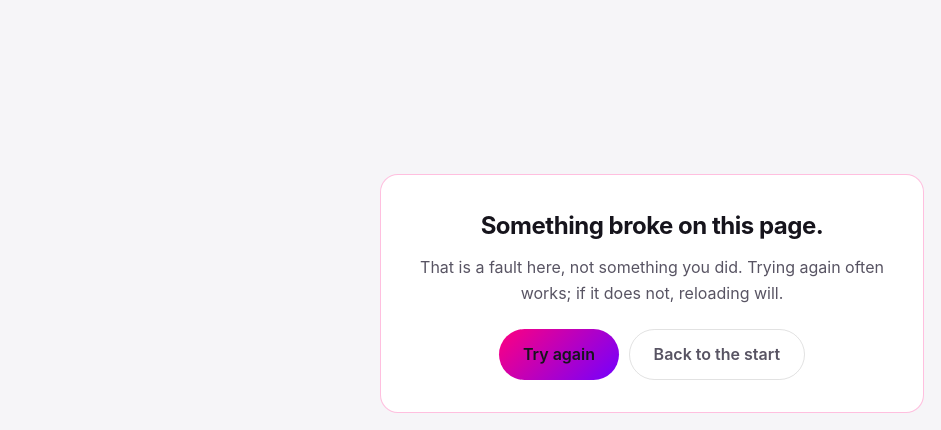
Test: ErrorBoundary › recovers when the cause has gone
The width and height of the screenshot is (941, 430).
Expected: the message is shown, x1=380 y1=174 x2=924 y2=413
Click the button "Try again".
click(559, 354)  # box x1=499 y1=329 x2=619 y2=380
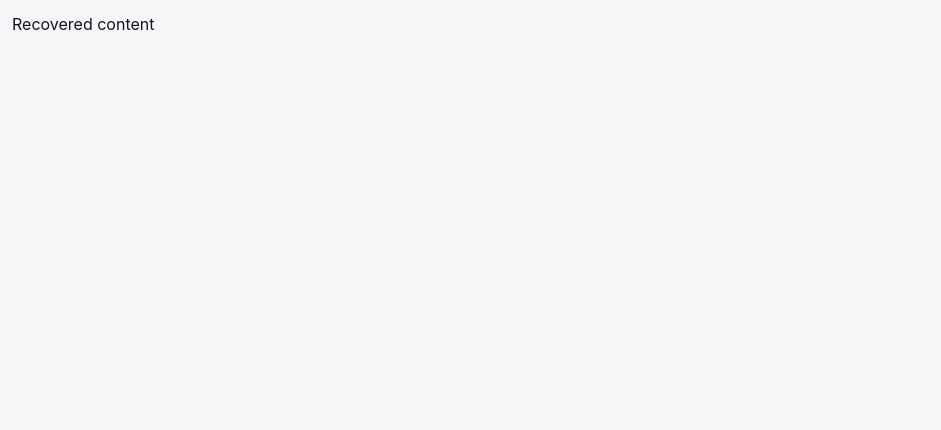
Result: the text "Recovered content" is shown at x1=12 y1=14 x2=154 y2=34
Result: the message is gone
